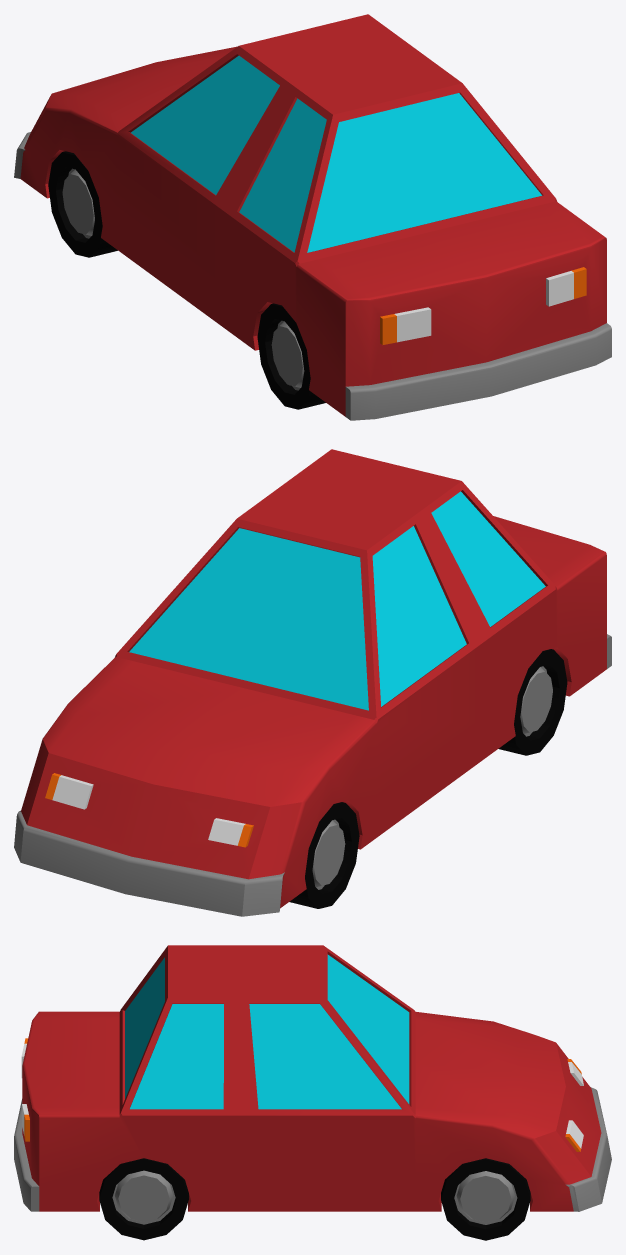
File: Carro_Dono.fbx
3 views of the same model, one above another, from view 1: azimuth 30°, elevation 25°; view 2: azimuth 150°, elevation 25°; view 3: azimuth 270°, elevation 25° (orthographic). The views are drawn at different scales.
Parts seen in each view (by area): view 1: Cube.003, Cylinder.008, Cylinder.009; view 2: Cube.003, Cylinder.008, Cylinder.009; view 3: Cube.003, Cylinder.008, Cylinder.009.
Part boxes in pixels (<box>): Cube.003: <box>14,14,611,420</box>; Cylinder.008: <box>48,151,117,257</box>; Cylinder.009: <box>257,303,325,409</box>; Cube.003: <box>14,449,611,916</box>; Cylinder.008: <box>289,802,359,908</box>; Cylinder.009: <box>498,649,567,755</box>; Cube.003: <box>14,945,611,1211</box>; Cylinder.008: <box>441,1158,530,1240</box>; Cylinder.009: <box>99,1158,188,1240</box>.
Bounding box in the file's own units: 192 × 458 × 184.
